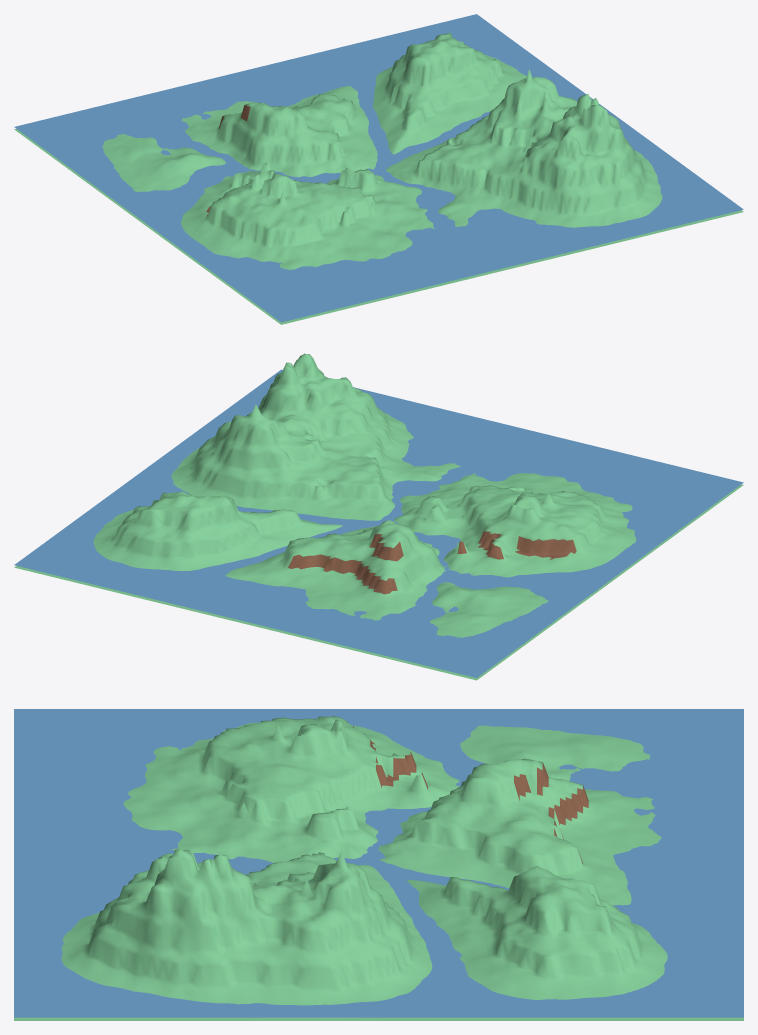
File: moon.fbx
3 views of the same model, one above another, from view 1: azimuth 30°, elevation 25°; view 2: azimuth 150°, elevation 25°; view 3: azimuth 270°, elevation 25° (orthographic). The views are drawn at different scales.
Parts seen in each view (by area): view 1: Surface, Surface_plane; view 2: Surface, Surface_plane; view 3: Surface, Surface_plane.
Boxes of the visible parts, <box> form: Surface: <box>14,32,743,324</box>; Surface_plane: <box>14,14,743,322</box>; Surface: <box>14,353,743,680</box>; Surface_plane: <box>14,369,743,677</box>; Surface: <box>14,716,743,1020</box>; Surface_plane: <box>14,709,743,1017</box>.
Size of the model in its own units: 1034 by 179 by 1034.
